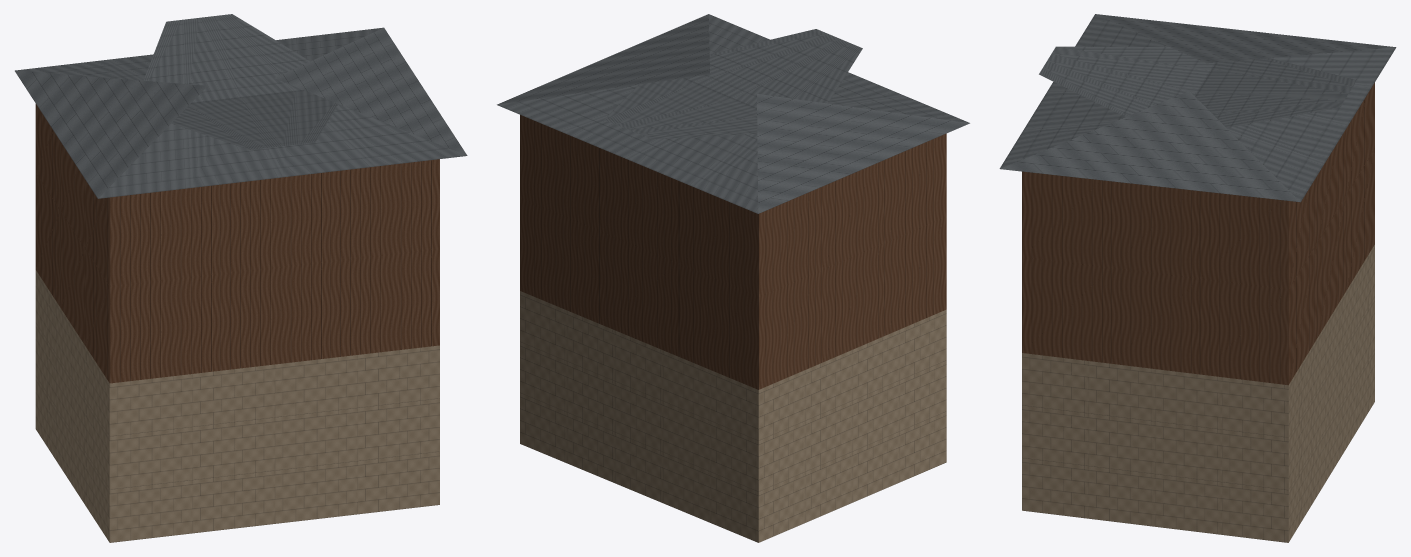
The model's file is bld_c9_7_514.gltf.
The picture shows the model from 3 angles, left to right: view 1: azimuth 30°, elevation 25°; view 2: azimuth 150°, elevation 25°; view 3: azimuth 270°, elevation 25°; orthographic projection. The views are drawn at different scales.
Parts seen in each view (by area): view 1: bld_c9_7_514; view 2: bld_c9_7_514; view 3: bld_c9_7_514.
Boxes of the visible parts, x1,y1,x2,y2 form: bld_c9_7_514: (15, 14, 467, 542); bld_c9_7_514: (497, 14, 969, 542); bld_c9_7_514: (999, 14, 1396, 542).
Bounding box in the file's own units: 13.06 × 12.3 × 11.64.
3 materials, 3 textured.
